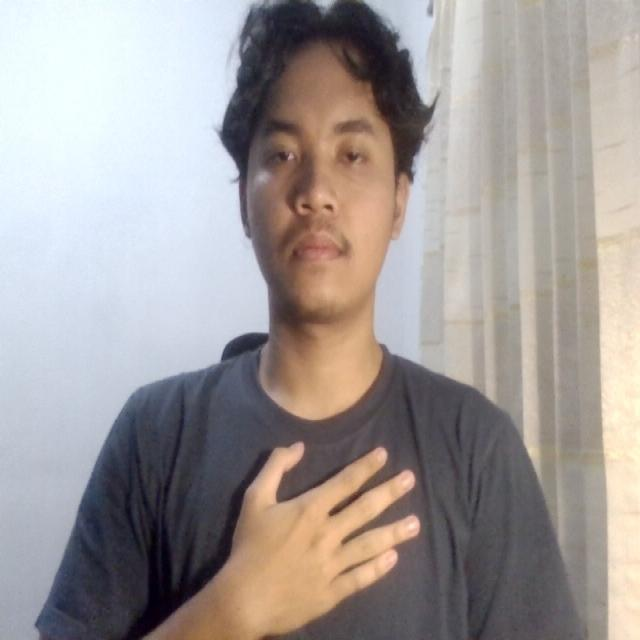Nama: (223, 425, 439, 631)
